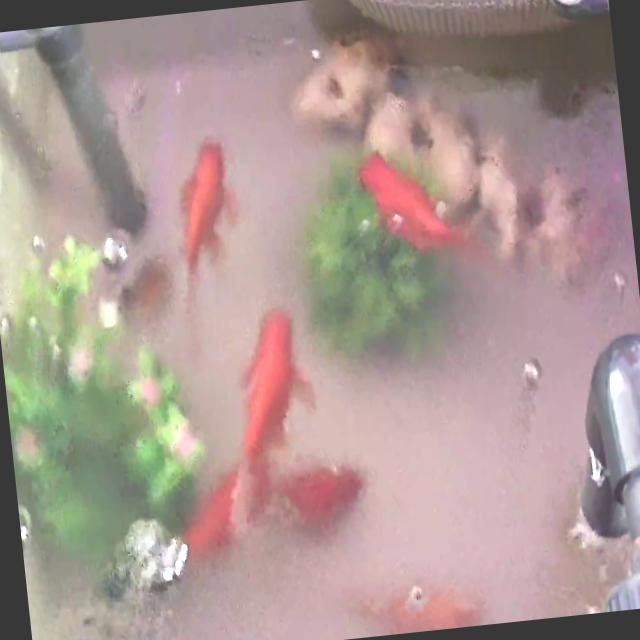fish: (212, 303, 319, 525), (358, 142, 478, 268), (167, 135, 245, 310), (169, 464, 252, 566), (265, 457, 367, 538), (351, 576, 450, 638)
